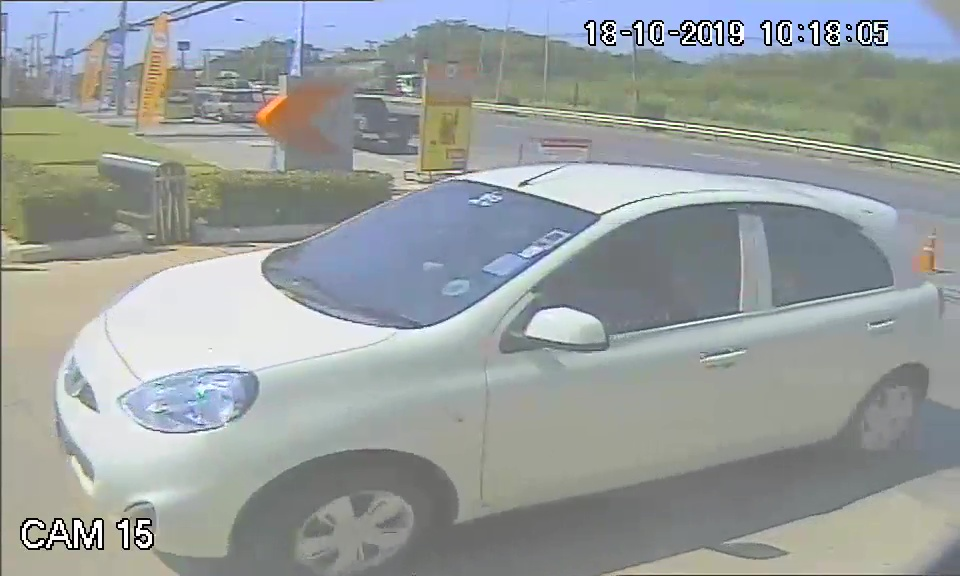sedan: (48, 156, 782, 539)
